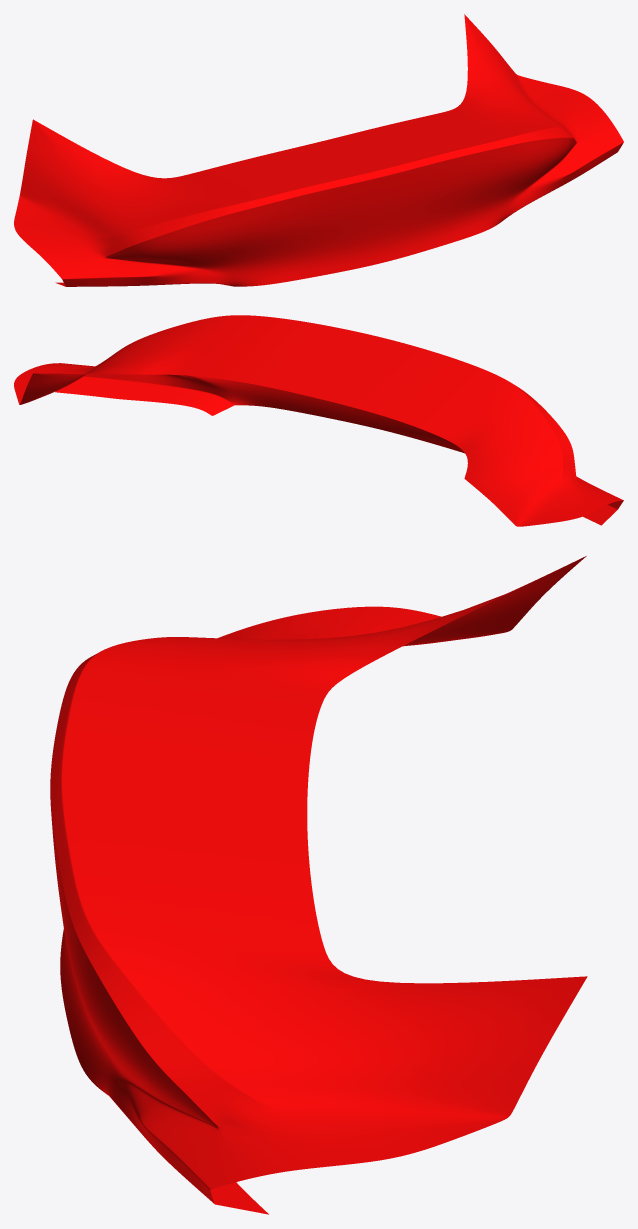
The model's file is MK5trunk.glb.
3 views of the same model, one above another, from view 1: azimuth 30°, elevation 25°; view 2: azimuth 150°, elevation 25°; view 3: azimuth 270°, elevation 25° (orthographic). The views are drawn at different scales.
Parts seen in each view (by area): view 1: Object_32; view 2: Object_32; view 3: Object_32.
Part boxes in pixels (x1,y1,x2,y2): Object_32: [14, 14, 623, 286]; Object_32: [14, 315, 623, 526]; Object_32: [50, 556, 587, 1214].
Size of the model in its own units: 0.8234 by 0.142 by 0.3358.
